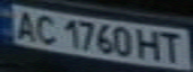0: (112, 25, 136, 57)
1: (57, 17, 81, 50)
6: (93, 22, 115, 55)
7: (75, 19, 96, 52)
A: (9, 8, 42, 41)
C: (30, 12, 60, 45)
H: (136, 27, 163, 62)
T: (157, 29, 187, 64)
